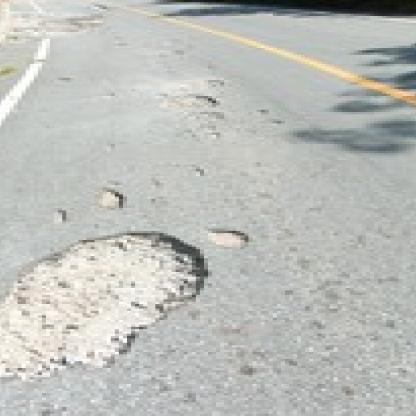pothole: (0, 231, 216, 382), (212, 229, 253, 254), (95, 190, 131, 215), (192, 94, 216, 107), (54, 208, 70, 224), (204, 78, 228, 87)
